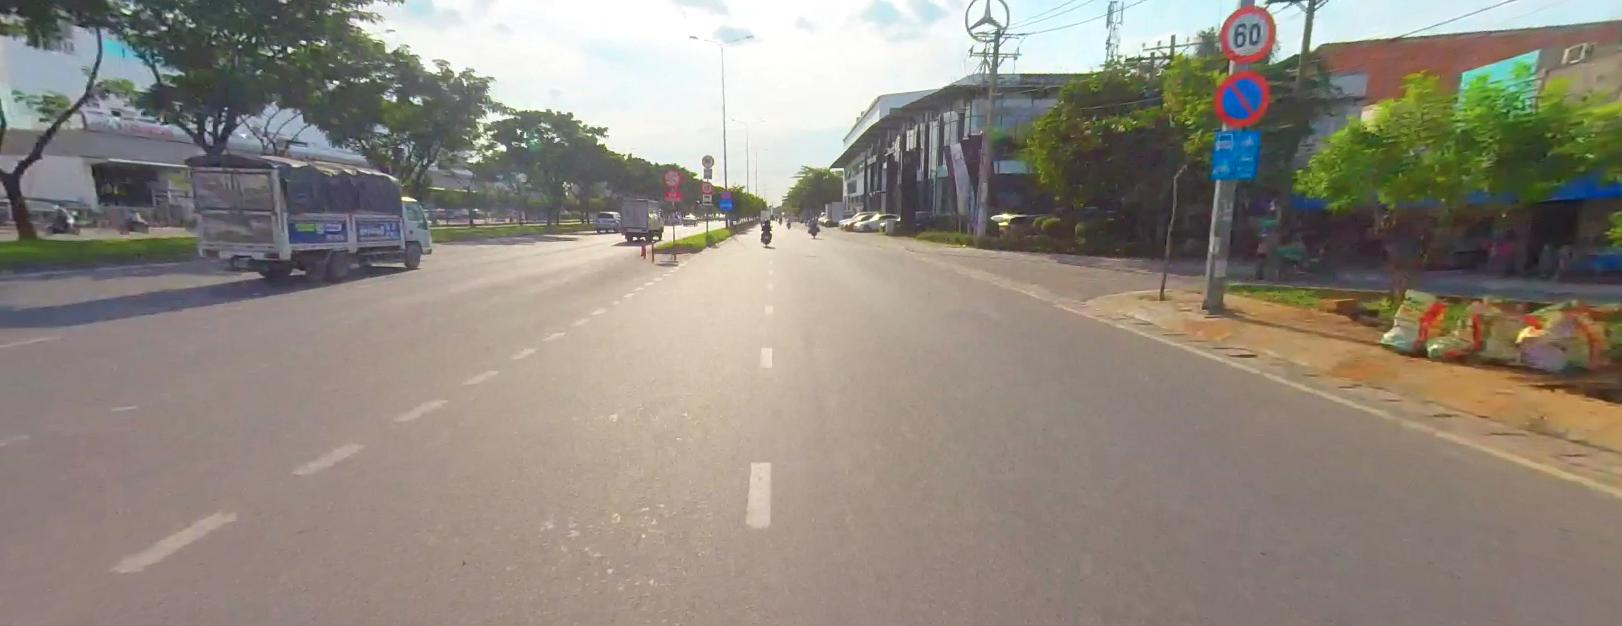Cam con lai: (663, 168, 681, 187), (701, 153, 713, 165), (701, 181, 712, 191)
Cam dung va do: (1214, 71, 1269, 126), (721, 189, 730, 197)
Gioi han toc do: (1219, 7, 1275, 61)
